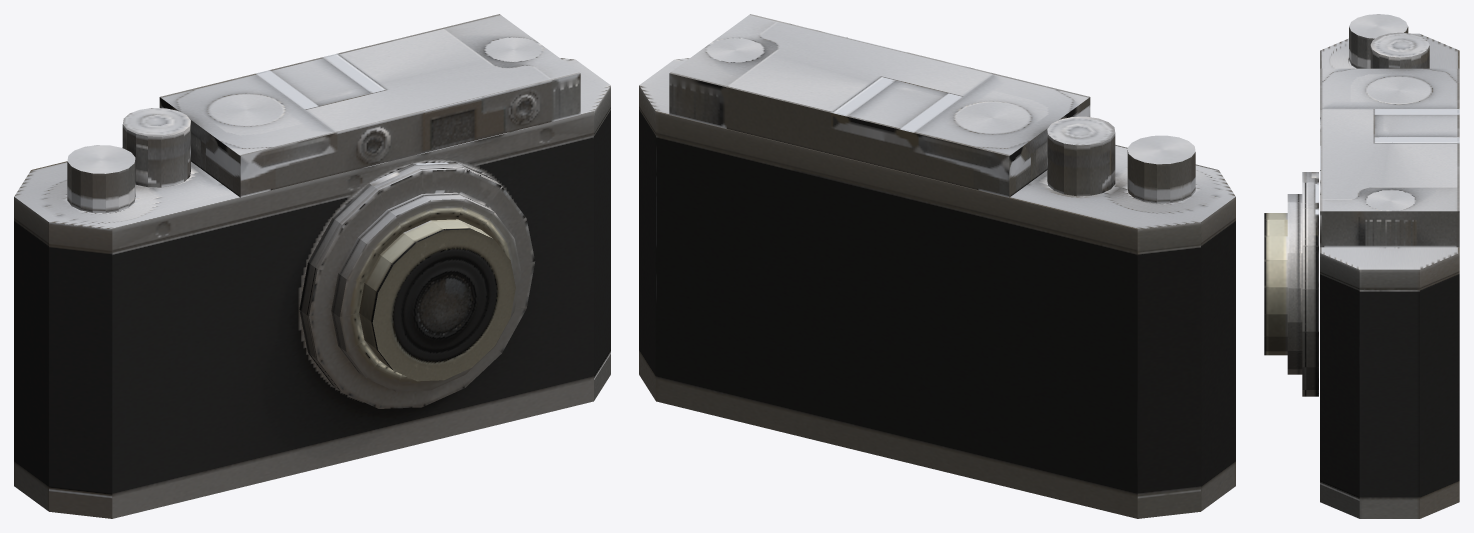
The model's file is camera02.fbx.
3 renders of one model, left to right at view 1: azimuth 30°, elevation 25°; view 2: azimuth 150°, elevation 25°; view 3: azimuth 270°, elevation 25°, orthographic. The views are drawn at different scales.
Parts seen in each view (by area): view 1: camera02; view 2: camera02; view 3: camera02.
Boxes of the visible parts, bbox=[...] form: camera02: bbox=[14, 14, 610, 518]; camera02: bbox=[639, 14, 1235, 518]; camera02: bbox=[1264, 14, 1459, 518].
Bounding box in the file's own units: 0.2609 × 0.0914 × 0.151.
1 material, 1 textured.
